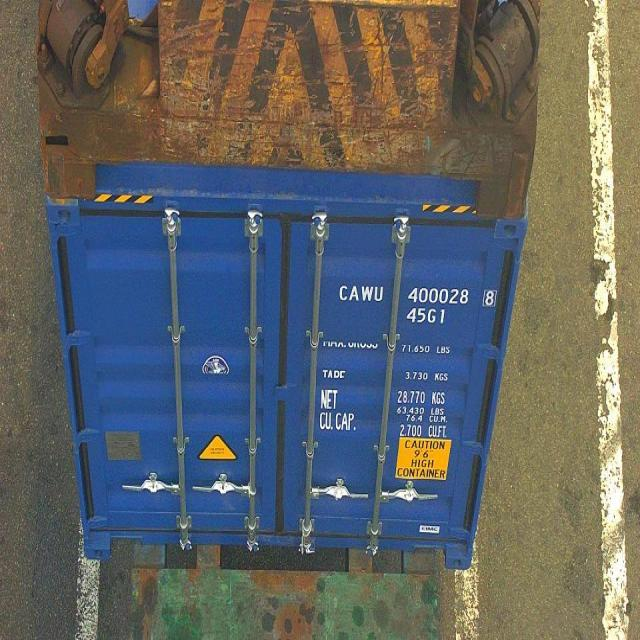ISO: (409, 309, 446, 325)
container_number: (336, 277, 499, 312)
